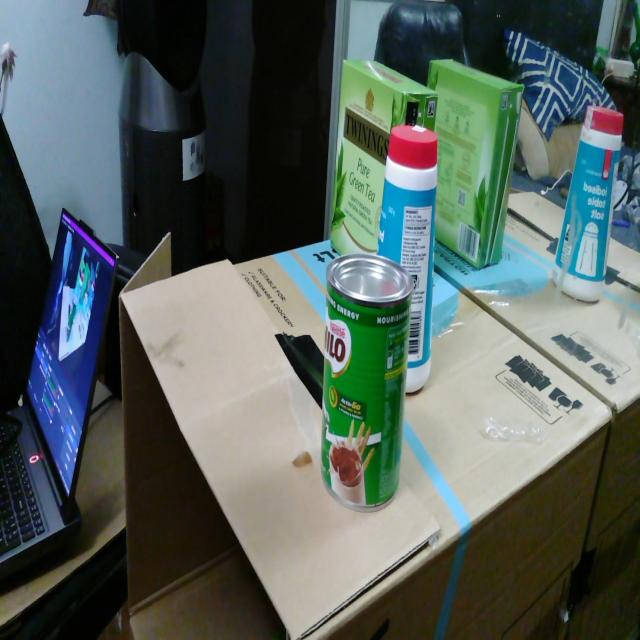nestle_milo_tin: (321, 253, 413, 512)
twinings_greentea_box: (331, 60, 438, 255)
woolworths_salt_bottle: (377, 126, 438, 392)
